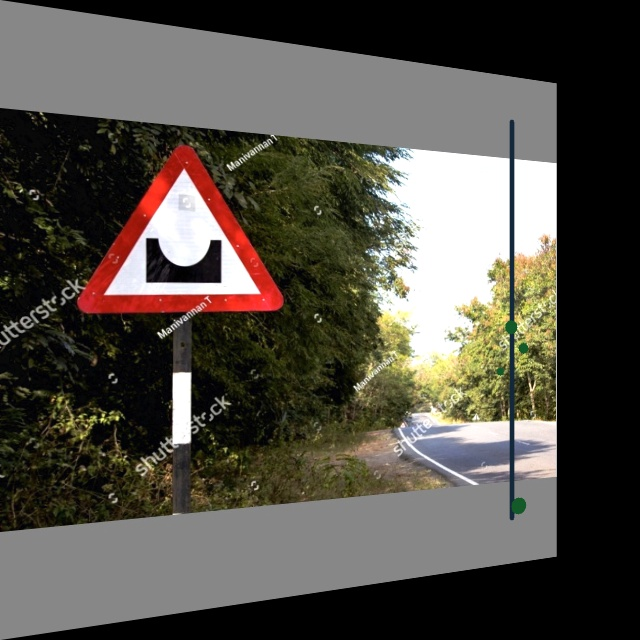Dangerous_Dip: (75, 137, 279, 312)
